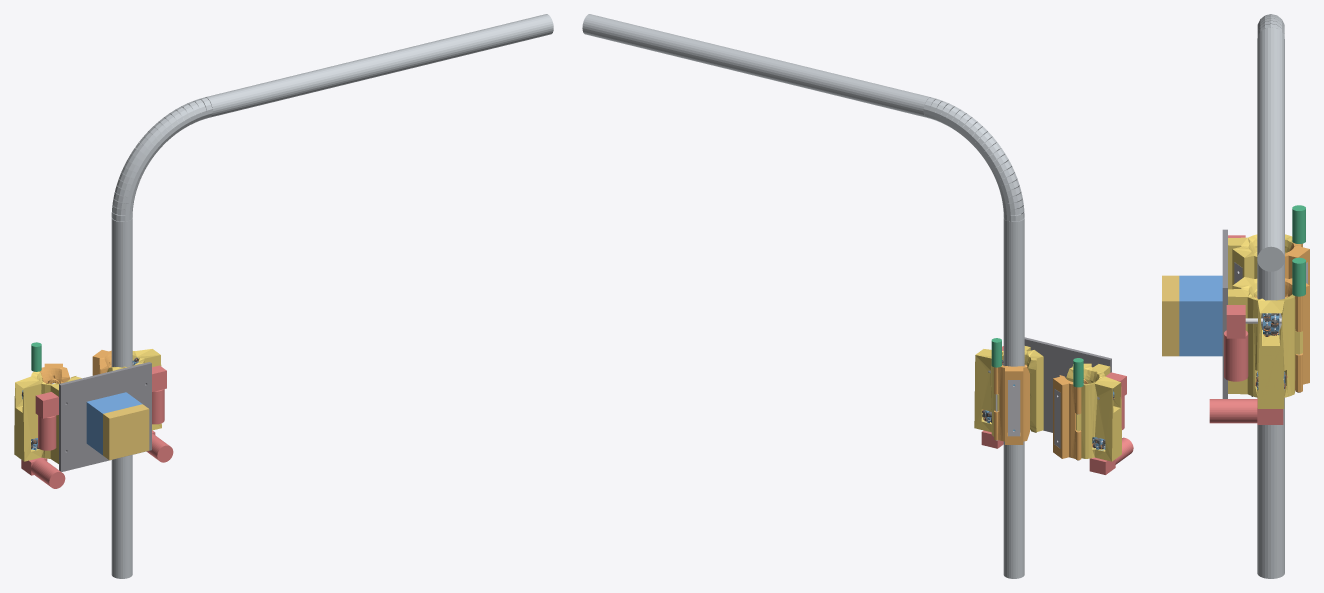
File: cart-on-track-assembly.glb
3 views of the same model, side by side, from view 1: azimuth 30°, elevation 25°; view 2: azimuth 150°, elevation 25°; view 3: azimuth 270°, elevation 25° (orthographic). The views are drawn at different scales.
Size of the model in its own units: 0.931 by 0.766 by 0.1708.
